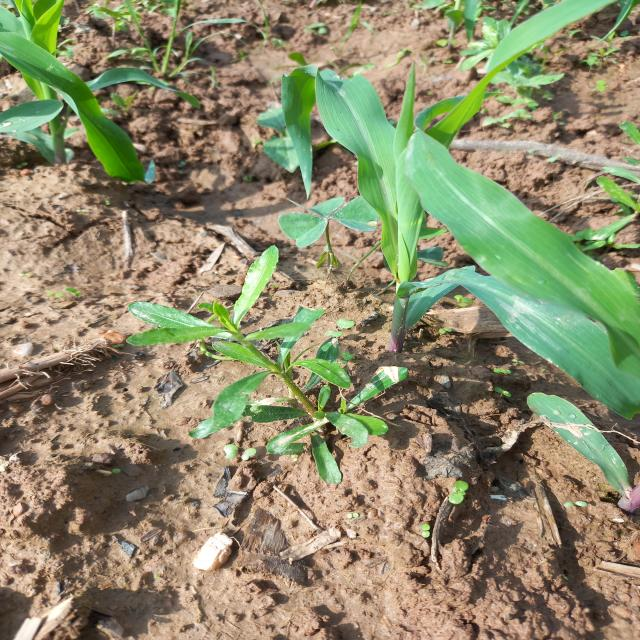maize: (393, 114, 640, 499), (293, 61, 475, 372), (0, 0, 172, 169)
weed: (122, 235, 417, 495), (256, 177, 386, 280), (554, 136, 640, 241), (445, 465, 486, 506), (406, 518, 446, 536)
